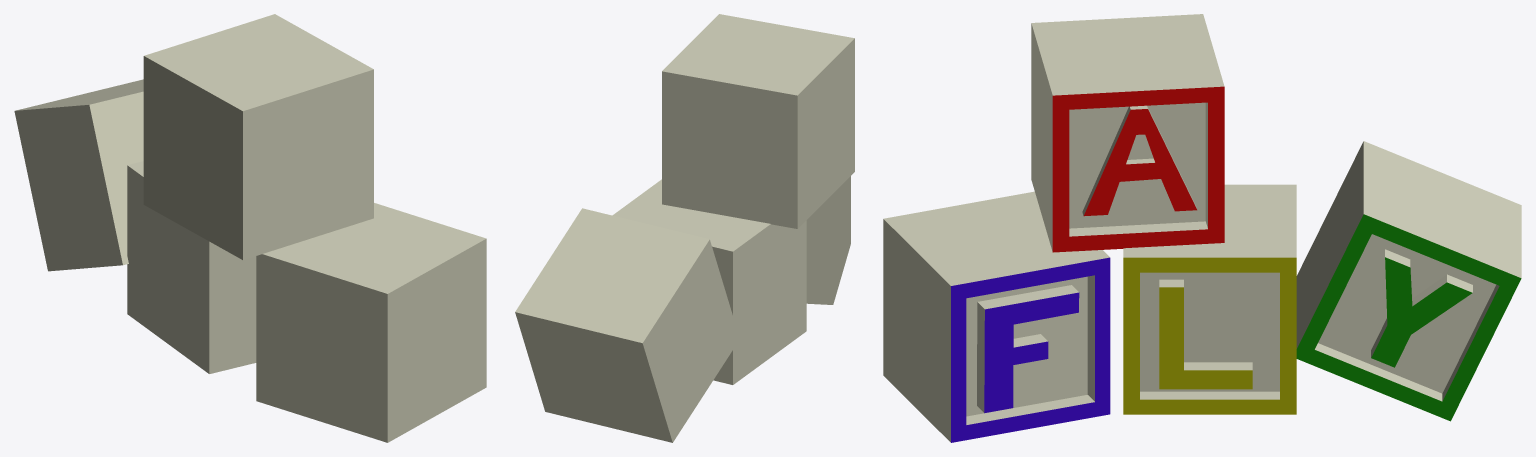
Rendered from blocks.fbx.
The picture shows the model from 3 angles, left to right: view 1: azimuth 30°, elevation 25°; view 2: azimuth 150°, elevation 25°; view 3: azimuth 270°, elevation 25°; orthographic projection. The views are drawn at different scales.
Visible parts, largest first — view 1: A, A.001, A.003, A.002; view 2: A.003, A, A.002, A.001; view 3: A.001, A.003, A, A.002.
Part boxes in pixels (x1,y1,x2,y2): A: [143, 14, 373, 259]; A.001: [256, 203, 486, 442]; A.003: [14, 79, 143, 271]; A.002: [127, 161, 256, 373]; A.003: [515, 208, 739, 442]; A: [662, 14, 854, 228]; A.002: [612, 179, 806, 384]; A.001: [806, 176, 850, 304]; A.001: [883, 191, 1110, 442]; A.003: [1296, 141, 1521, 421]; A: [1031, 14, 1224, 252]; A.002: [1123, 184, 1296, 414].
Bounding box in the file's own units: 313 × 412 × 737.
